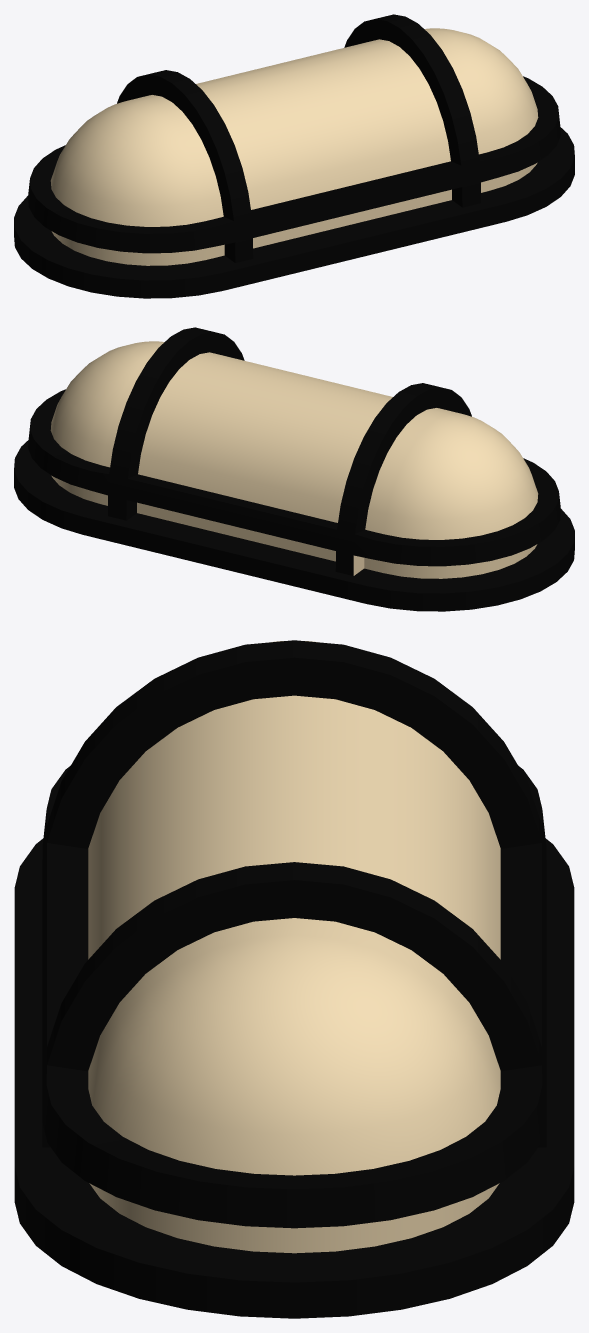
The model's file is WallMountedCageLight.fbx.
3 views of the same model, one above another, from view 1: azimuth 30°, elevation 25°; view 2: azimuth 150°, elevation 25°; view 3: azimuth 270°, elevation 25° (orthographic). The views are drawn at different scales.
Parts seen in each view (by area): view 1: Sphere.001; view 2: Sphere.001; view 3: Sphere.001.
Boxes of the visible parts, x1,y1,x2,y2 form: Sphere.001: (14,14,574,298); Sphere.001: (14,327,574,611); Sphere.001: (14,640,574,1318).
Bounding box in the file's own units: 575 × 159 × 266.
